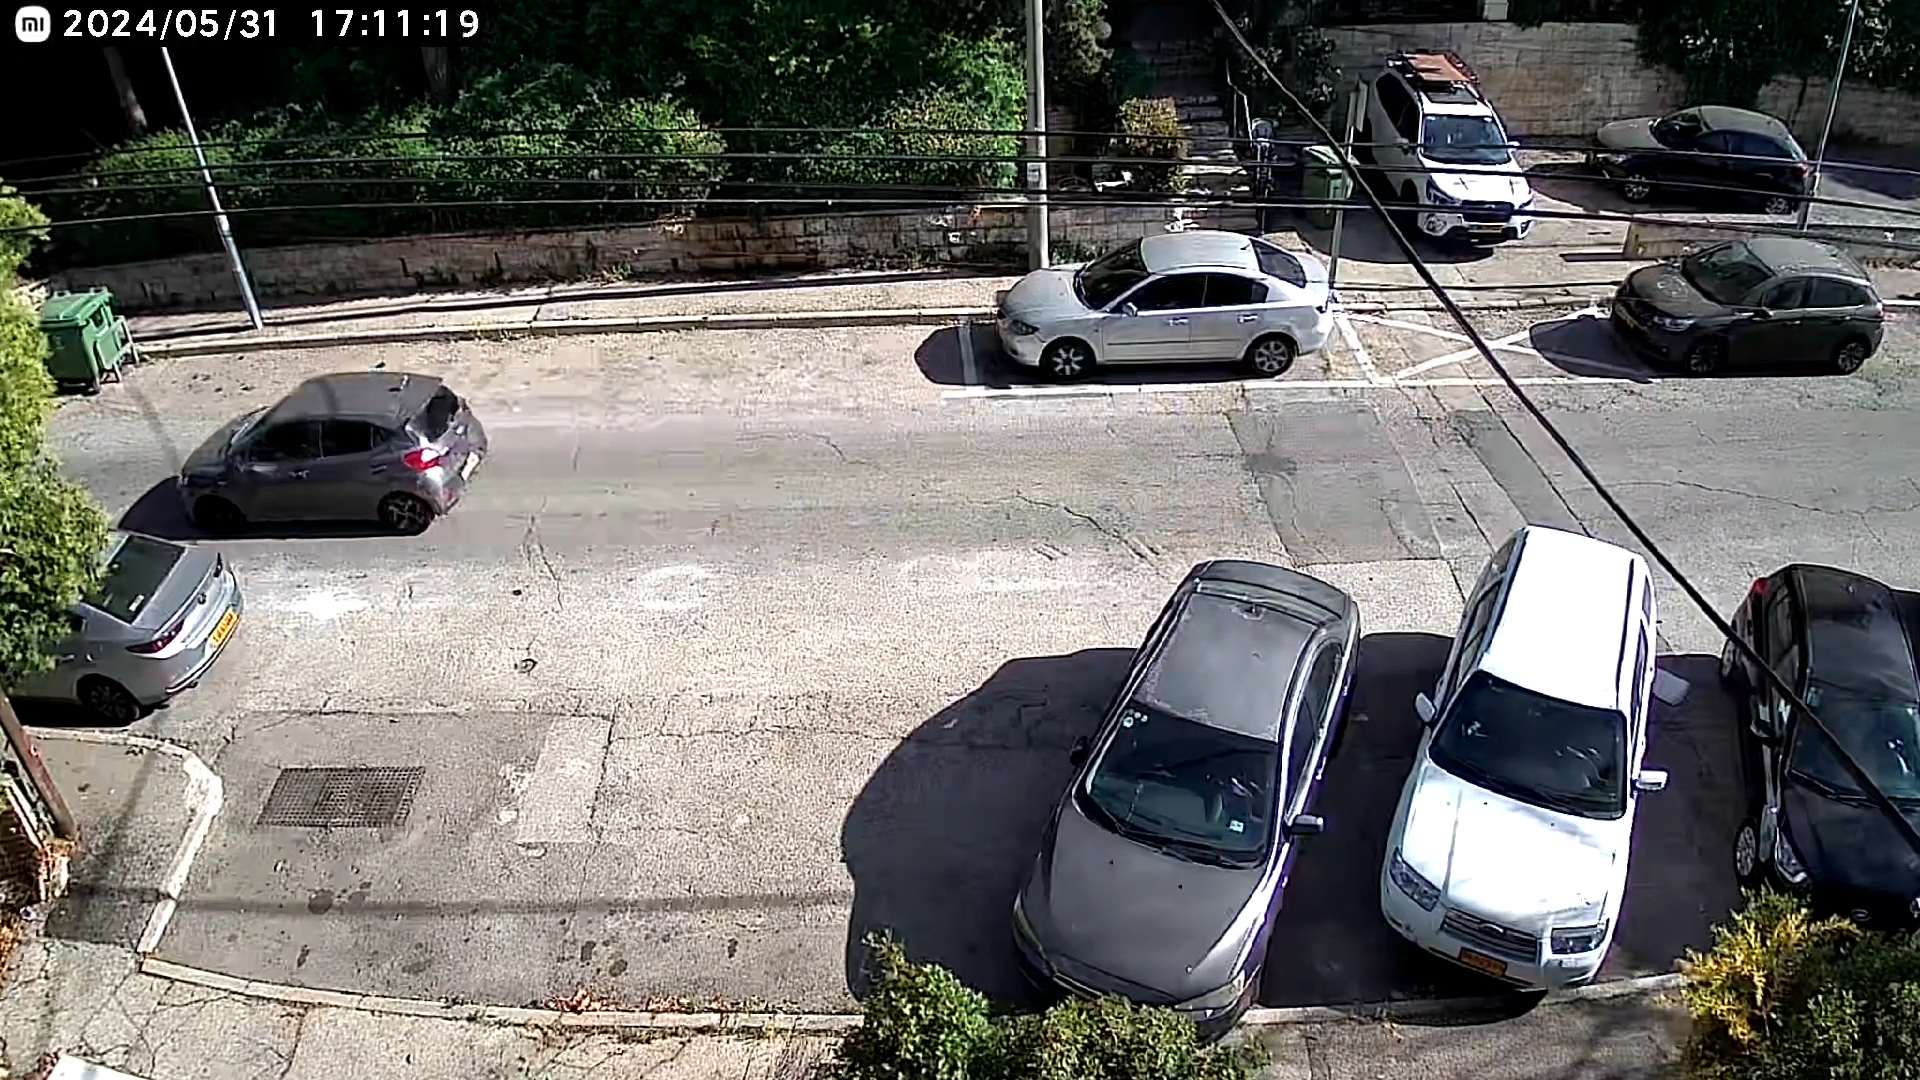moving car: (174, 371, 492, 537)
